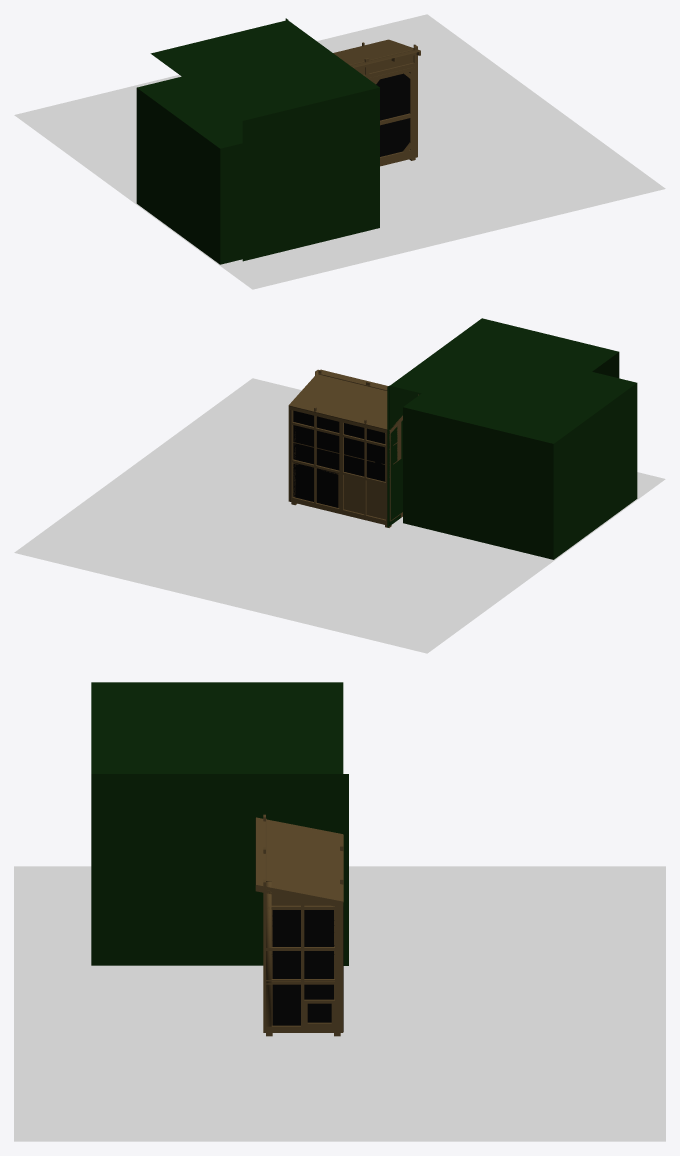
Rendered from Catio.glb.
The picture shows the model from 3 angles, top to bottom: view 1: azimuth 30°, elevation 25°; view 2: azimuth 150°, elevation 25°; view 3: azimuth 270°, elevation 25°; orthographic projection. The views are drawn at different scales.
Visible parts, largest first — view 1: Plane.001, Plane, Plane.004, Cube.001, Cube.015, 3x4.005, 3x4.014; view 2: Plane.001, Plane, Plane.002, Cube.001, Cube.007, 3x4.007; view 3: Plane.001, Plane, Plane.003, Cube.001, 3x4.023, Cube.002, 3x4.022.
Part boxes in pixels (bbox=[...]): Plane.001: bbox=[14, 14, 665, 289]; Plane: bbox=[136, 18, 379, 264]; Plane.004: bbox=[376, 72, 409, 156]; Cube.001: bbox=[333, 39, 413, 64]; Cube.015: bbox=[349, 49, 413, 74]; 3x4.005: bbox=[413, 46, 417, 153]; 3x4.014: bbox=[410, 67, 414, 153]; Plane.001: bbox=[14, 378, 665, 653]; Plane: bbox=[387, 318, 637, 559]; Plane.002: bbox=[293, 410, 384, 507]; Cube.001: bbox=[288, 374, 402, 430]; Cube.007: bbox=[338, 473, 385, 519]; 3x4.007: bbox=[288, 409, 293, 497]; Plane.001: bbox=[14, 866, 665, 1141]; Plane: bbox=[91, 682, 348, 965]; Plane.003: bbox=[272, 906, 343, 1031]; Cube.001: bbox=[266, 819, 343, 902]; 3x4.023: bbox=[266, 881, 271, 1026]; Cube.002: bbox=[255, 817, 265, 887]; 3x4.022: bbox=[335, 906, 340, 1026].
Bounding box in the file's own units: 10.01 × 3.59 × 9.97.
